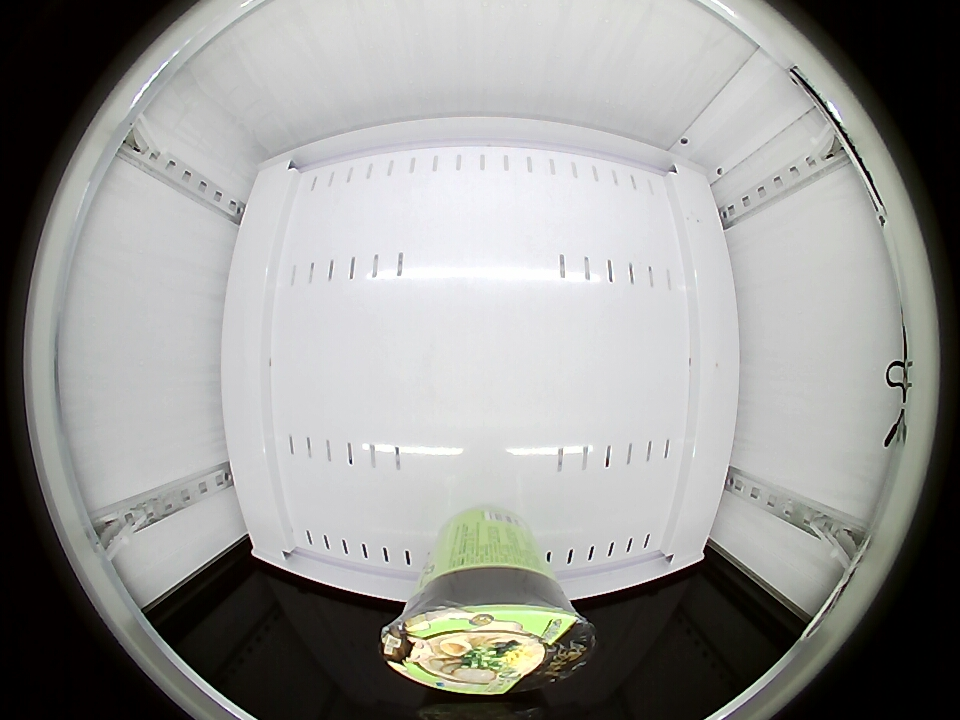tangdaren: (380, 567, 597, 695)
